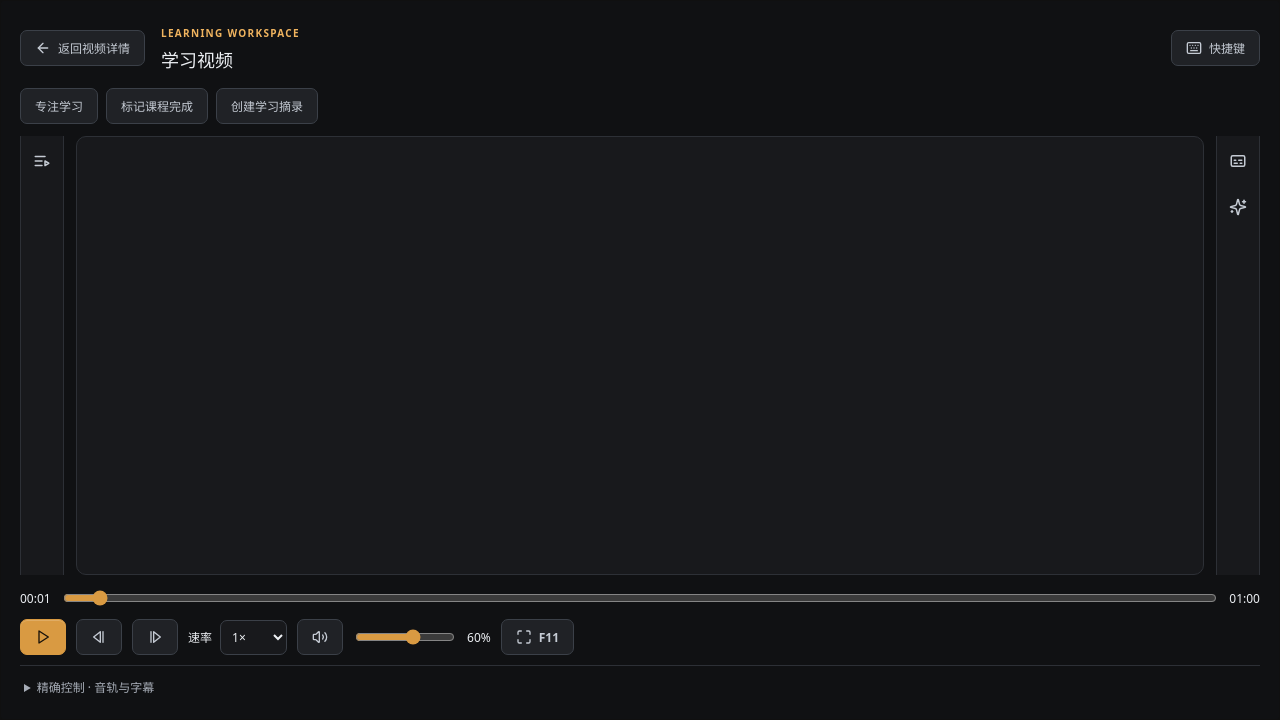
it: does not replace an early panel action with a late restored layout
Expected: the button named "播放" is shown, [20,619,66,655]
Click the button named "课程字幕". click: (1238, 163)
box: [1220,144,1256,182]
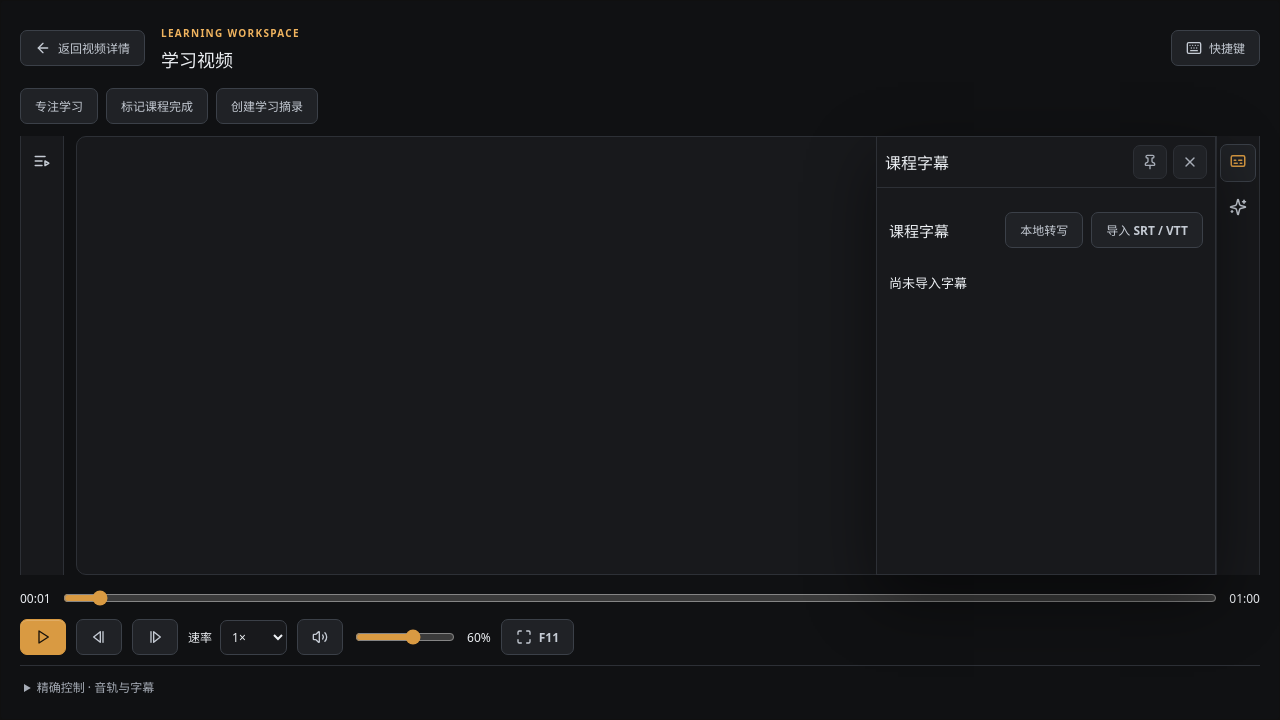
Now the element "课程字幕" is shown, box [889,200,1203,292]
